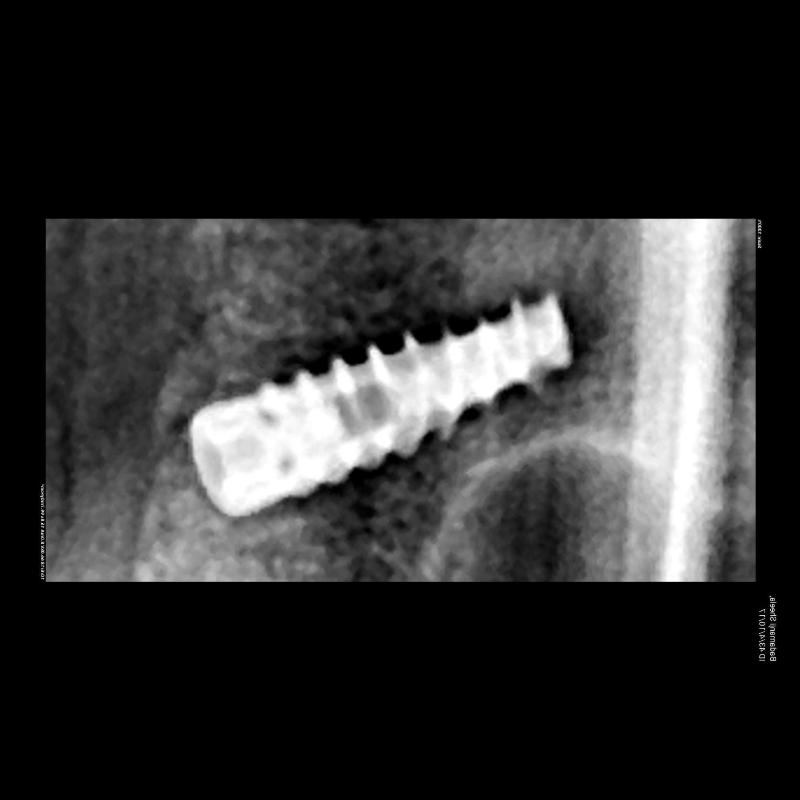NORIS: (188, 282, 574, 526)
